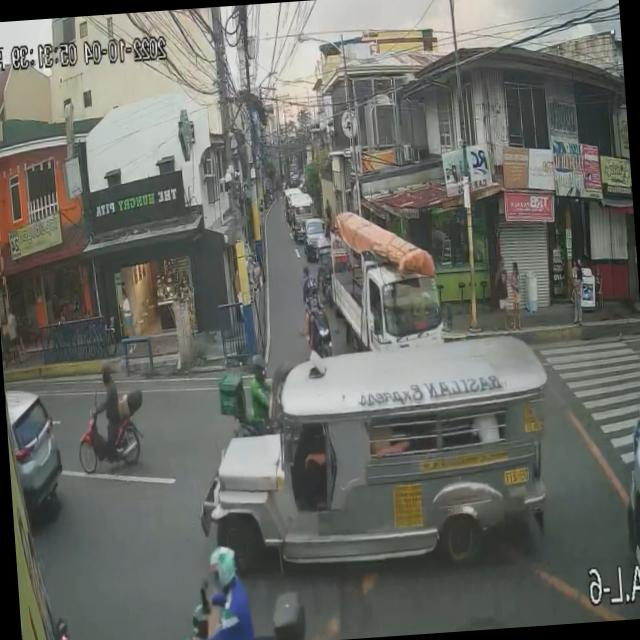full: (206, 544, 238, 595), (250, 352, 269, 382)
